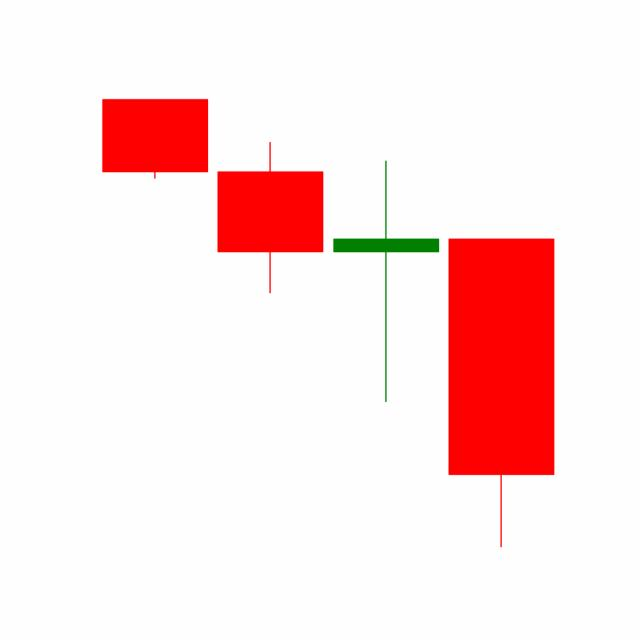Spinning Top: (328, 157, 444, 404)
